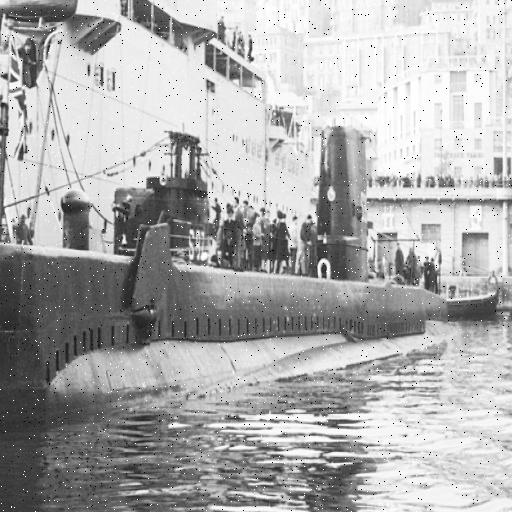submarine: (1, 122, 449, 402)
